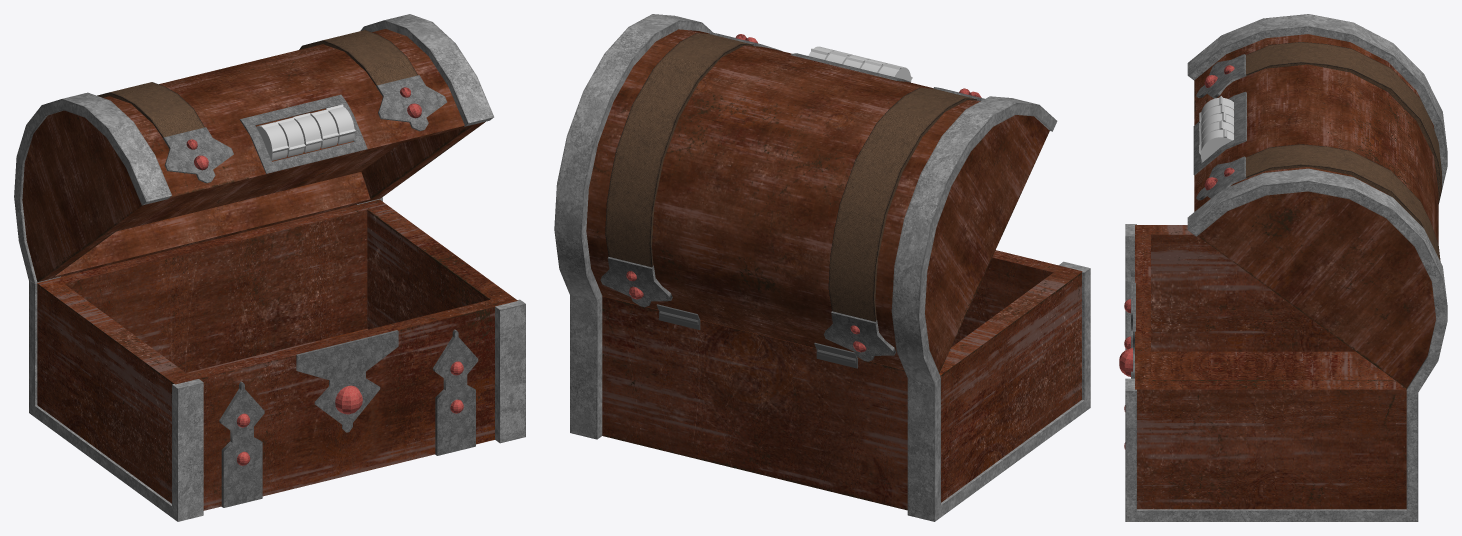
The model's file is EL_PuzzleBox_EditedUV.fbx.
3 views of the same model, side by side, from view 1: azimuth 30°, elevation 25°; view 2: azimuth 150°, elevation 25°; view 3: azimuth 270°, elevation 25° (orthographic). The views are drawn at different scales.
Parts seen in each view (by area): view 1: Bottom1, Lid1, Turn1, Turn5, Turn3, Turn2, Turn4; view 2: Lid1, Bottom1; view 3: Lid1, Bottom1, Turn5.
Part boxes in pixels (x1,y1,x2,y2): Bottom1: (29,199,525,521); Lid1: (14,14,493,283); Turn1: (256,121,288,160); Turn5: (325,104,355,144); Turn3: (293,113,322,152); Turn2: (274,117,305,156); Turn4: (310,109,339,148); Lid1: (554,14,1057,383); Bottom1: (570,250,1090,521); Lid1: (1187,14,1447,396); Bottom1: (1119,224,1418,521); Turn5: (1199,128,1233,162).
Size of the model in its own units: 8.96 by 8.53 by 7.45.
